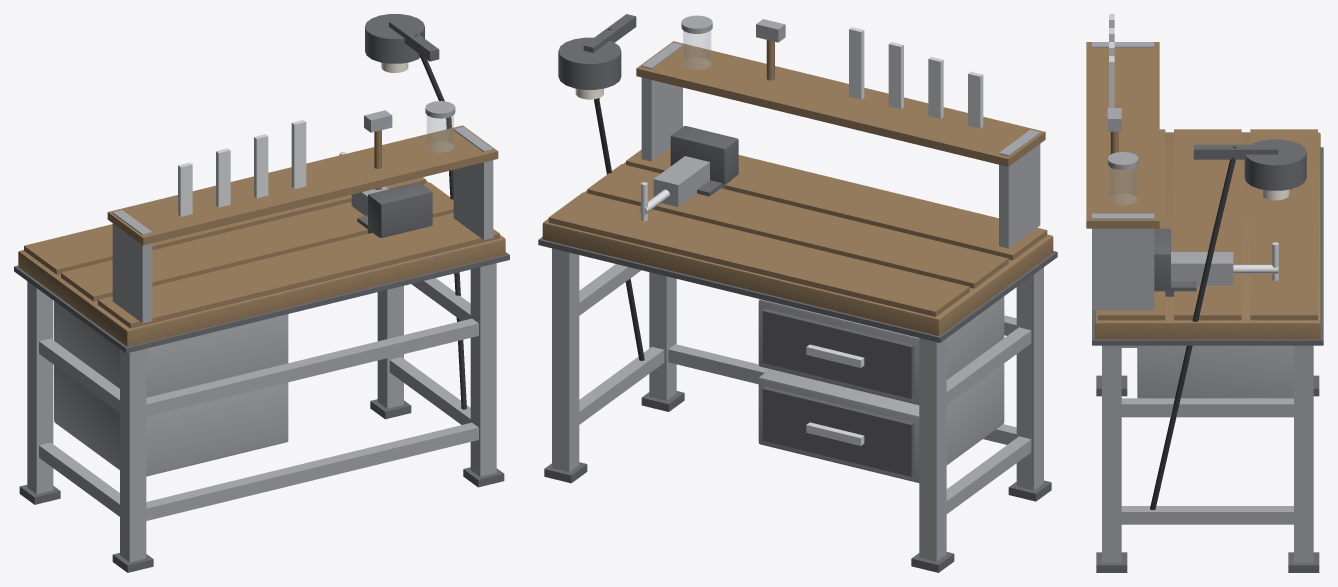
File: DD_workbench.fbx
3 views of the same model, side by side, from view 1: azimuth 30°, elevation 25°; view 2: azimuth 150°, elevation 25°; view 3: azimuth 270°, elevation 25° (orthographic). The views are drawn at different scales.
Visible parts, largest first — view 1: DD_workbench; view 2: DD_workbench; view 3: DD_workbench.
Boxes of the visible parts, <box> form: DD_workbench: <box>14,14,509,572</box>; DD_workbench: <box>538,14,1057,572</box>; DD_workbench: <box>1086,14,1323,572</box>.
Size of the model in its own units: 1.62 by 1.62 by 0.84.
